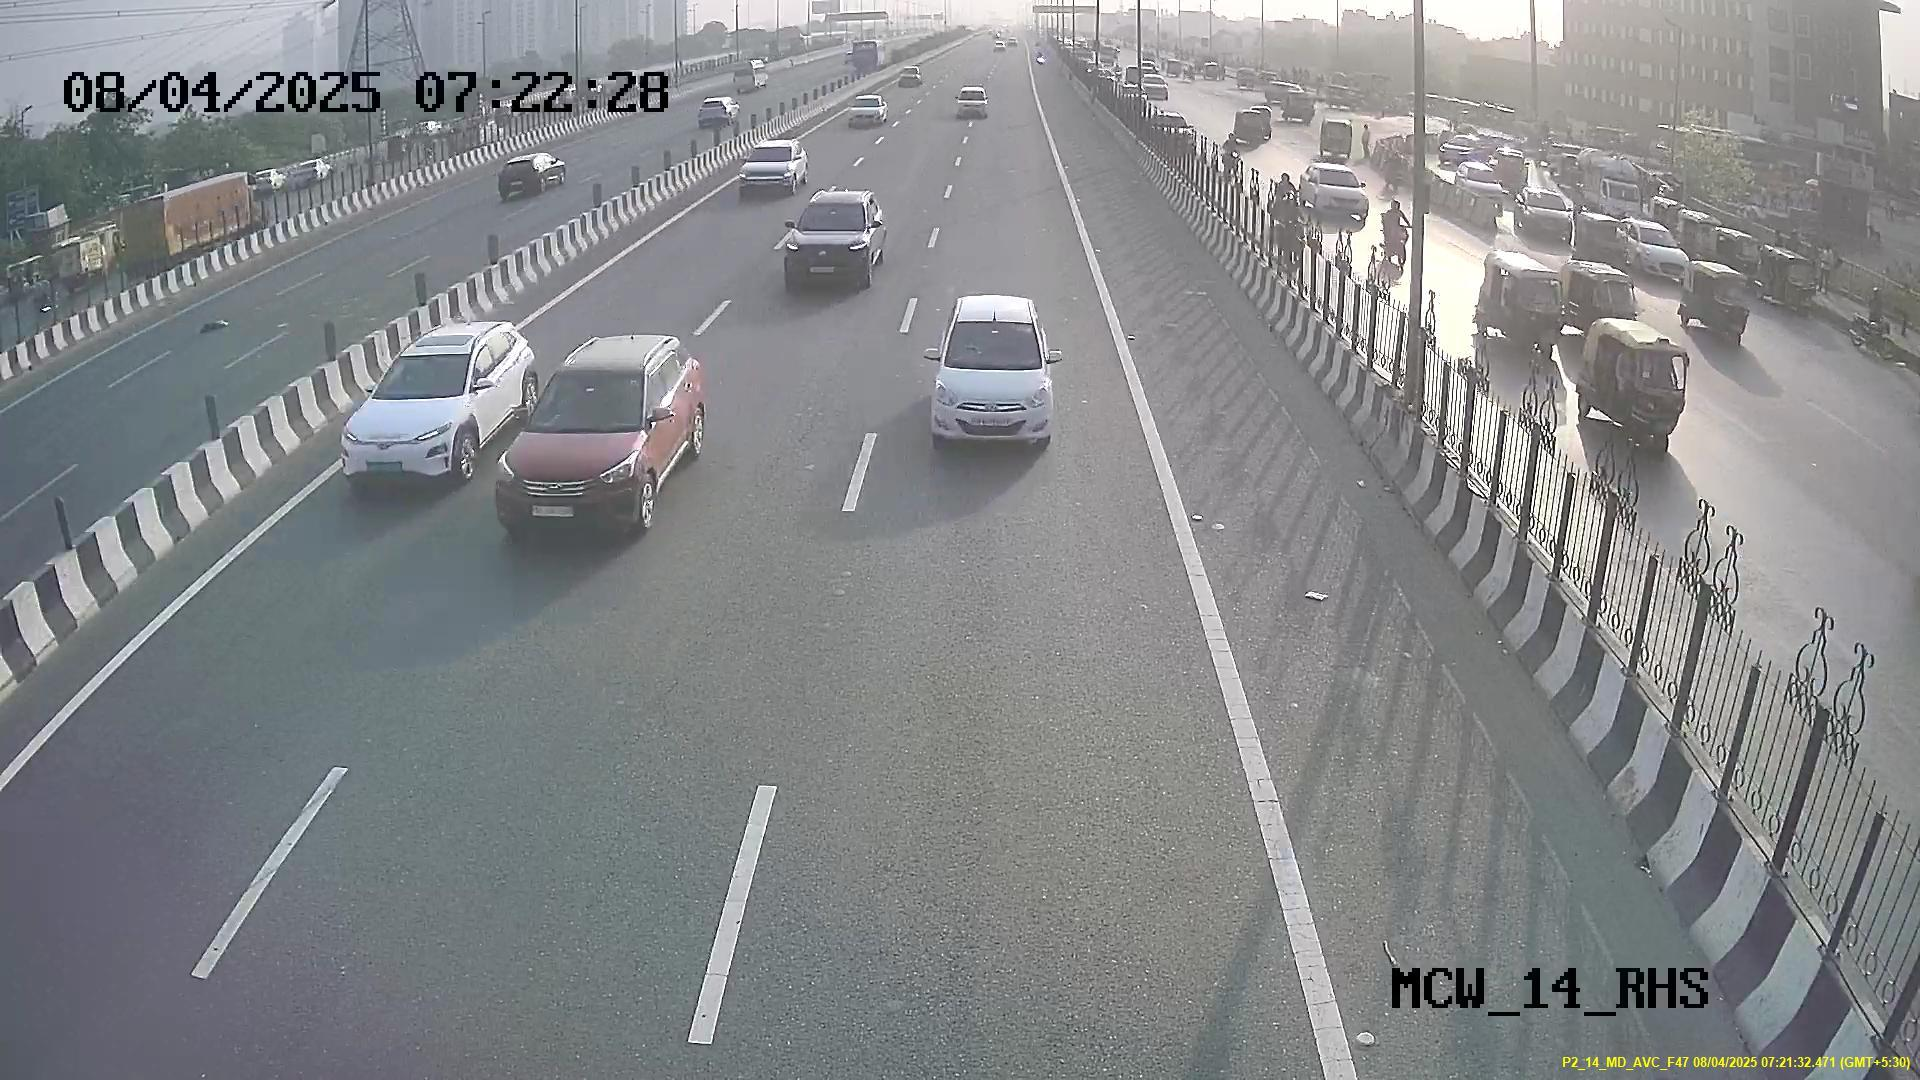car: (498, 352, 678, 537), (344, 319, 496, 487), (927, 306, 1059, 452), (778, 187, 885, 294)
